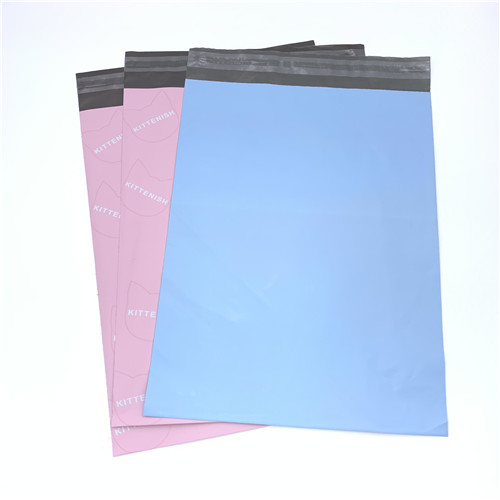塑料袋: (76, 41, 448, 456)
